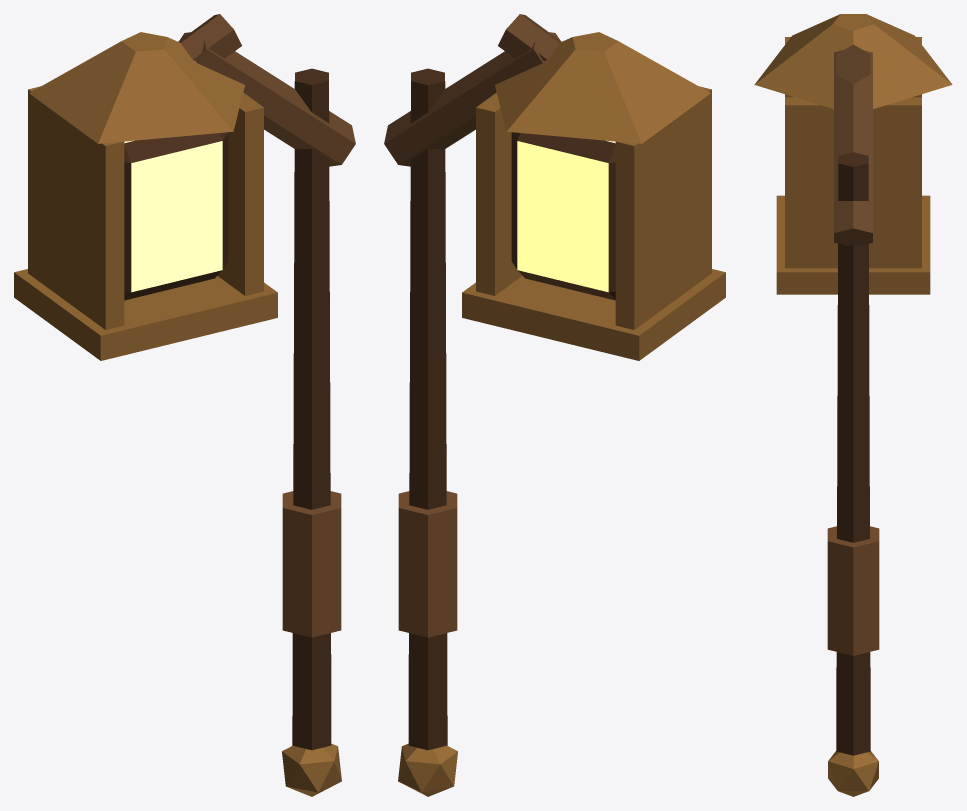
File: lantern_crook.glb
3 renders of one model, left to right at view 1: azimuth 30°, elevation 25°; view 2: azimuth 150°, elevation 25°; view 3: azimuth 270°, elevation 25°, orthographic. The views are drawn at different scales.
Parts seen in each view (by area): view 1: lantern_crook; view 2: lantern_crook; view 3: lantern_crook.
Boxes of the visible parts, x1,y1,x2,y2 form: lantern_crook: [14, 14, 355, 796]; lantern_crook: [384, 14, 725, 796]; lantern_crook: [754, 14, 952, 796].
Bounding box in the file's own units: 0.6036 × 1.58 × 0.3975.
